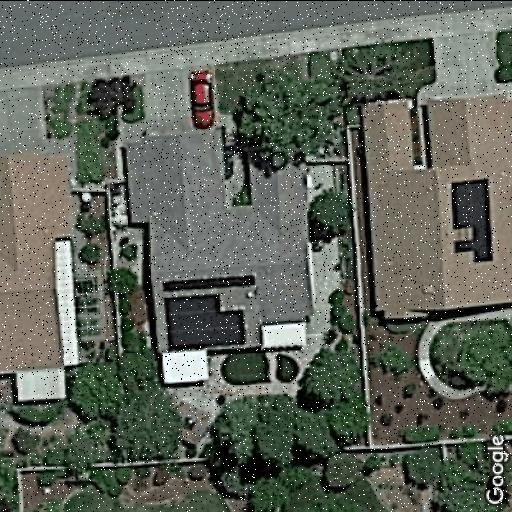solar-panel: (160, 270, 256, 352), (446, 176, 494, 268)
